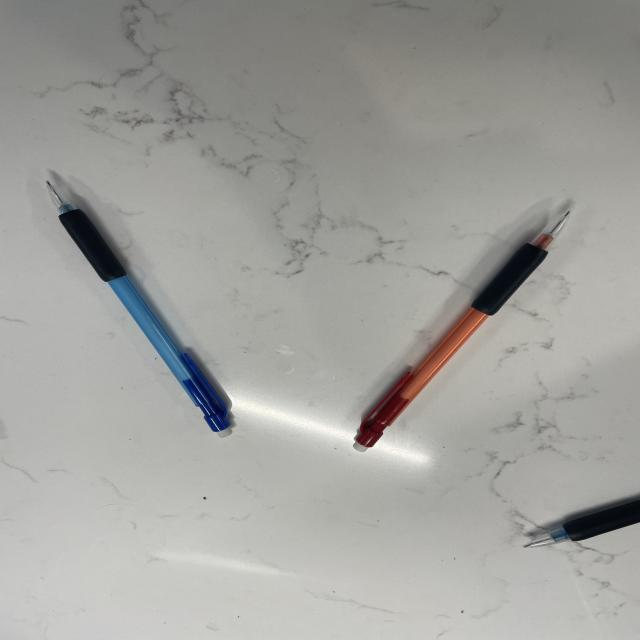mechanical-pencils: (352, 208, 581, 455), (43, 181, 241, 443), (528, 498, 637, 542)
